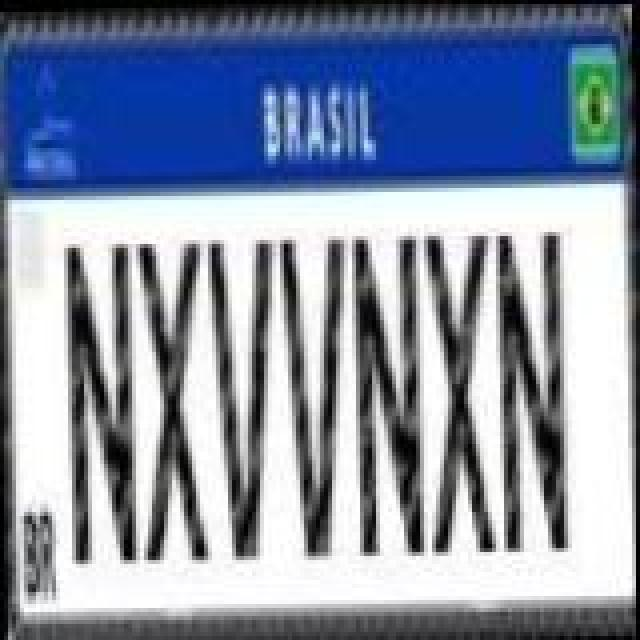N: (60, 236, 140, 564), (488, 224, 568, 552), (350, 228, 426, 556)
V: (204, 232, 284, 560), (276, 230, 356, 558)
X: (132, 236, 212, 564), (418, 226, 494, 554)
